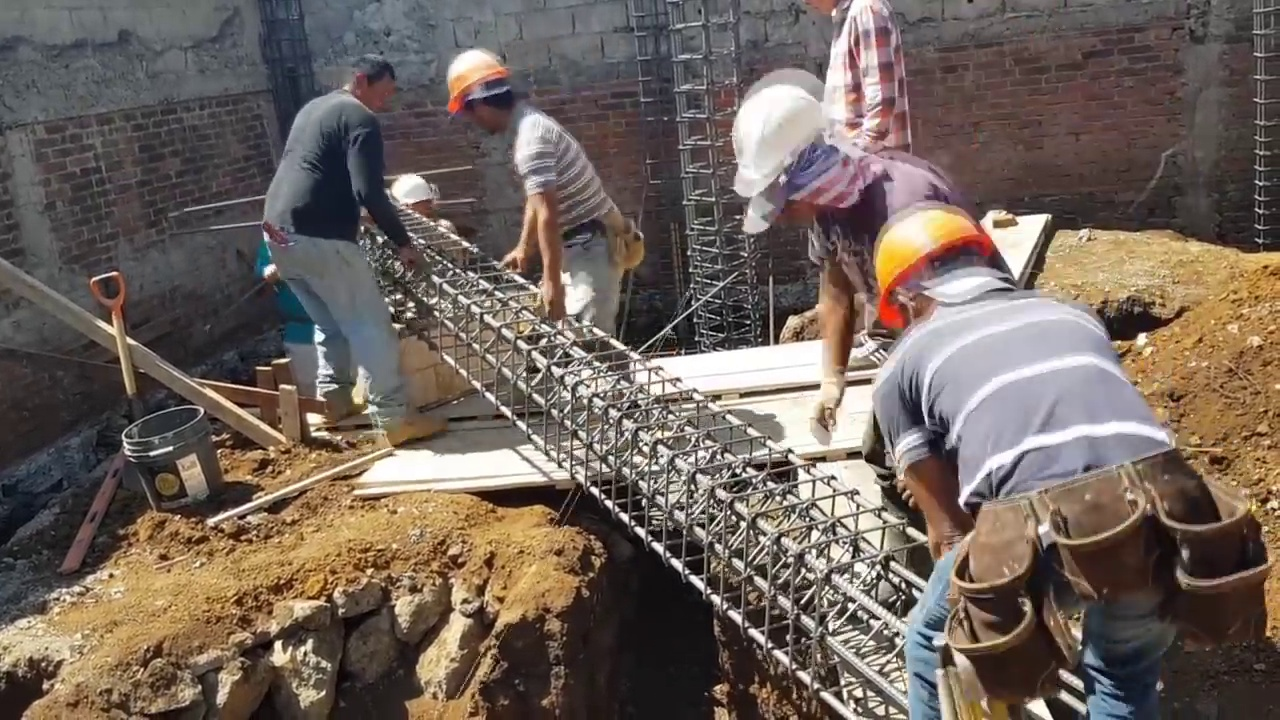helmet: (866, 207, 1003, 327), (732, 67, 827, 202), (445, 48, 507, 110), (390, 172, 433, 206)
helmet-off: (343, 53, 397, 108)
helmet-on: (729, 58, 863, 242), (866, 206, 1019, 346), (445, 48, 521, 139), (386, 171, 437, 217)
person: (841, 202, 1280, 720), (263, 53, 448, 454), (726, 59, 925, 415), (445, 55, 643, 332), (819, 0, 906, 164)
